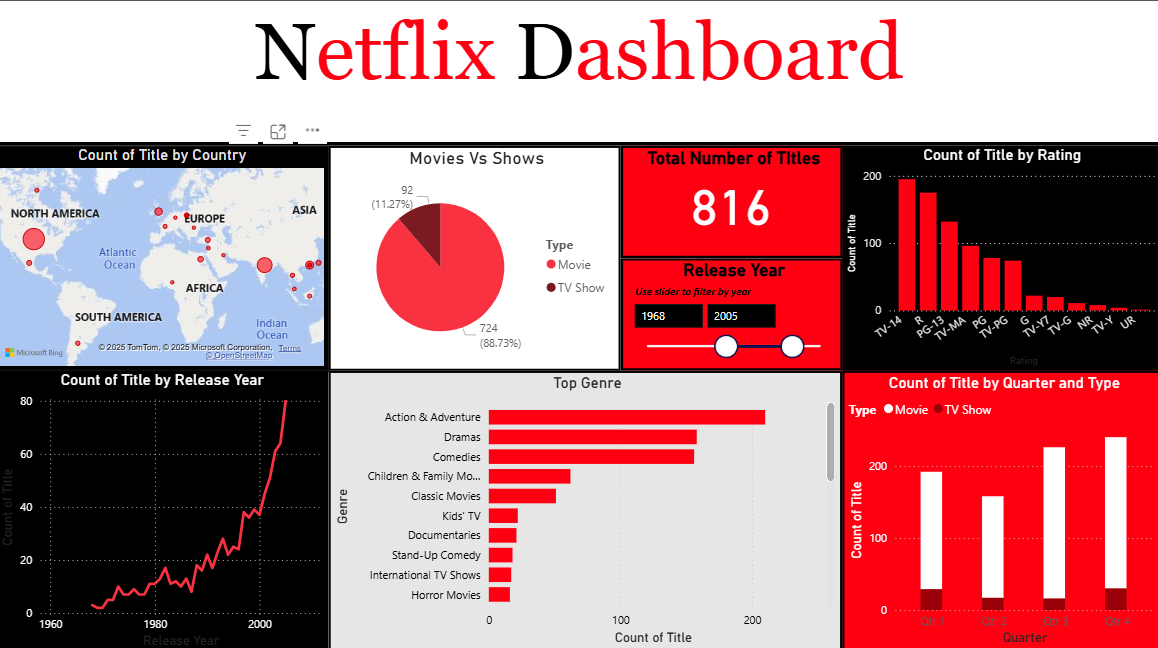

What the dashboard file says about the page in this screenshot:
{"tool":"powerbi","page":{"name":"Page 1","canvas":[1280,720],"ordinal":0},"visuals":[{"type":"pieChart","title":"Movies Vs Shows","fields":{"Y":["CountNonNull(Netflix_Titles_01.Title)"],"Category":["Netflix_Titles_01.Type"]},"box":[365,163.3,321.1,247],"z":0},{"type":"textbox","box":[0,0,1280.3,163.3],"z":1000},{"type":"lineChart","fields":{"Category":["Netflix_Titles_01.Release Year"],"Y":["CountNonNull(Netflix_Titles_01.Title)"]},"box":[0,410.3,365,310.1],"z":2000},{"type":"map","fields":{"Category":["Netflix_Titles_01.Country"],"Size":["CountNonNull(Netflix_Titles_01.Title)"]},"box":[0,163.3,365,247],"z":3000},{"type":"barChart","title":"Top Genre","fields":{"Y":["CountNonNull(Netflix_Titles_01.Title)"],"Category":["Netflix_Titles_01.Genre Primary"]},"box":[365,410.3,564,310.1],"z":4000},{"type":"card","title":"Total Number of TItles","fields":{"Values":["CountNonNull(Netflix_Titles_01.Title)"]},"box":[686.1,163.3,242.9,123.5],"z":5000},{"type":"slicer","title":"Release Year","fields":{"Values":["Netflix_Titles_01.Release Year"]},"box":[686.1,286.8,242.9,123.5],"z":6000},{"type":"treemap","fields":{"Group":["Netflix_Titles_01.Genre"],"Values":["CountNonNull(Netflix_Titles_01.Title)"],"Details":["Netflix_Titles_01.Type"]},"box":[929,410.3,351.3,310.1],"z":7000},{"type":"columnChart","fields":{"Category":["Netflix_Titles_01.Rating"],"Y":["CountNonNull(Netflix_Titles_01.Title)"]},"box":[929,163.3,351.3,247],"z":8000},{"type":"ribbonChart","fields":{"Y":["CountNonNull(Netflix_Titles_01.Title)"],"Category":["Netflix_Titles_01.Date Added.Variation.Date Hierarchy.Quarter"],"Series":["Netflix_Titles_01.Type"]},"box":[929,410.3,351.3,310.1],"z":9000}]}

Visuals, with their boxes in screenshot pixels (x1, y1, x2, y2), scaled from the page's 1280x720 canvas onto the 1158x648 screenshot:
"Movies Vs Shows" pieChart: [left=330, top=147, right=621, bottom=369]
textbox: [left=0, top=0, right=1157, bottom=147]
lineChart - Netflix_Titles_01.Release Year x CountNonNull(Netflix_Titles_01.Title): [left=0, top=369, right=330, bottom=647]
map - Netflix_Titles_01.Country x CountNonNull(Netflix_Titles_01.Title): [left=0, top=147, right=330, bottom=369]
"Top Genre" barChart: [left=330, top=369, right=840, bottom=647]
"Total Number of TItles" card: [left=621, top=147, right=840, bottom=258]
"Release Year" slicer: [left=621, top=258, right=840, bottom=369]
treemap - Netflix_Titles_01.Genre x CountNonNull(Netflix_Titles_01.Title): [left=840, top=369, right=1157, bottom=647]
columnChart - Netflix_Titles_01.Rating x CountNonNull(Netflix_Titles_01.Title): [left=840, top=147, right=1157, bottom=369]
ribbonChart - CountNonNull(Netflix_Titles_01.Title) x Netflix_Titles_01.Date Added.Variation.Date Hierarchy.Quarter: [left=840, top=369, right=1157, bottom=647]
